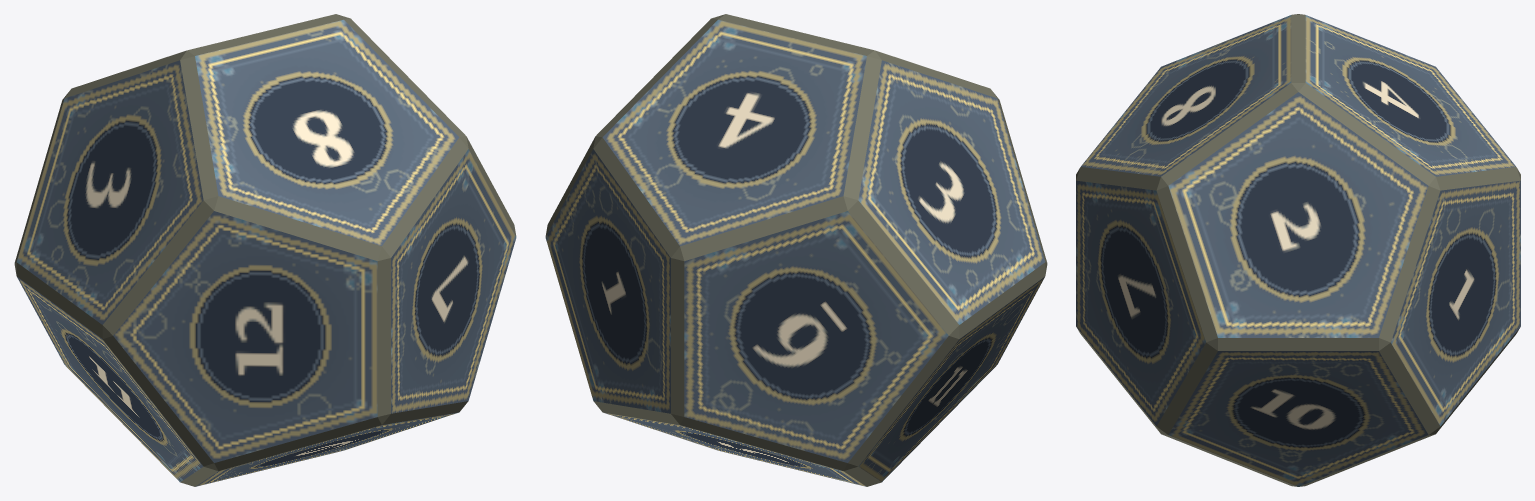
3 views of the same model, side by side, from view 1: azimuth 30°, elevation 25°; view 2: azimuth 150°, elevation 25°; view 3: azimuth 270°, elevation 25° (orthographic). The views are drawn at different scales.
Size of the model in its own units: 165 by 165 by 165.
Materials: 1 (1 with a texture image).
